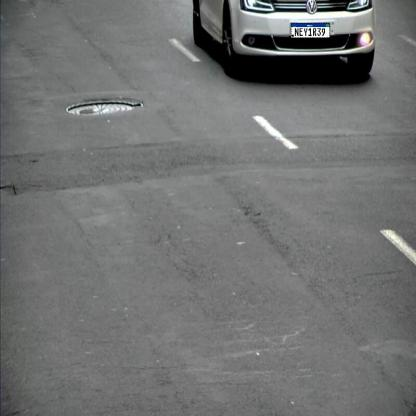PlacaM: (291, 23, 330, 38)
